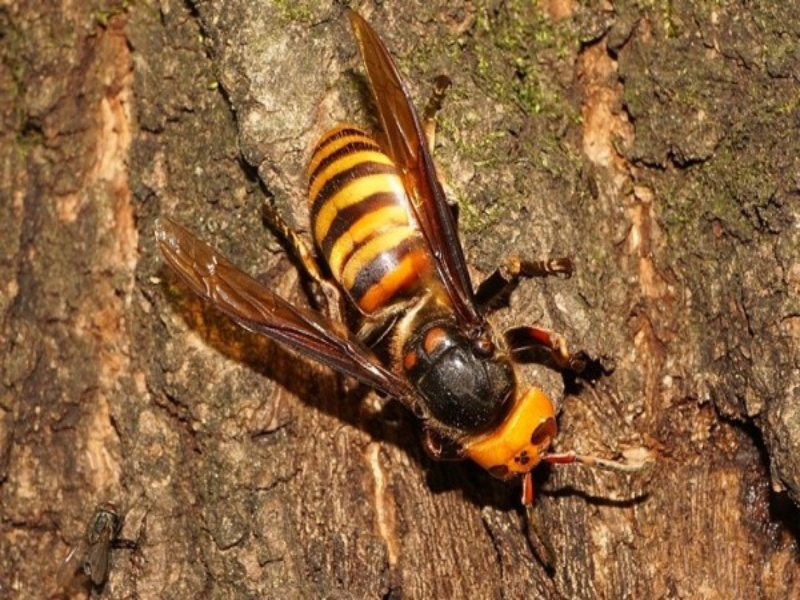asian_giant_hornet: (284, 122, 584, 512)
